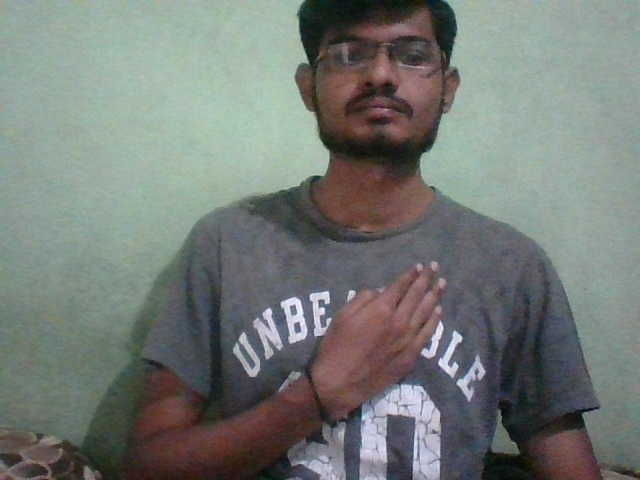no: (312, 251, 473, 386)
